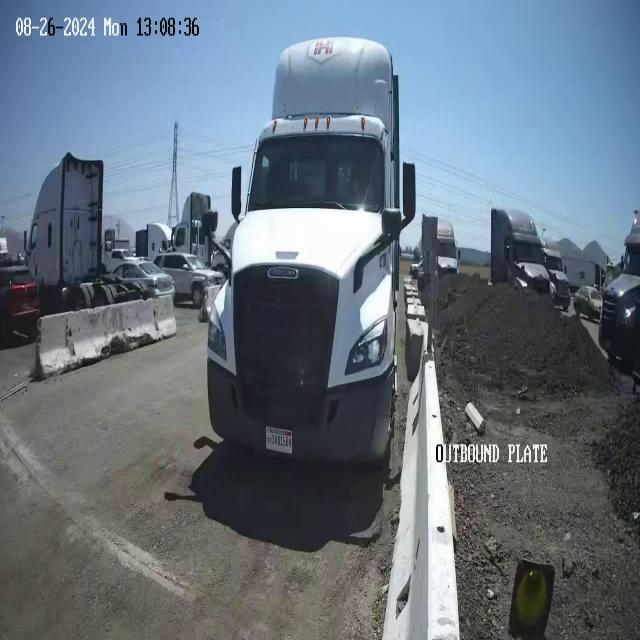TRUCK_OUT: (206, 35, 417, 471)
